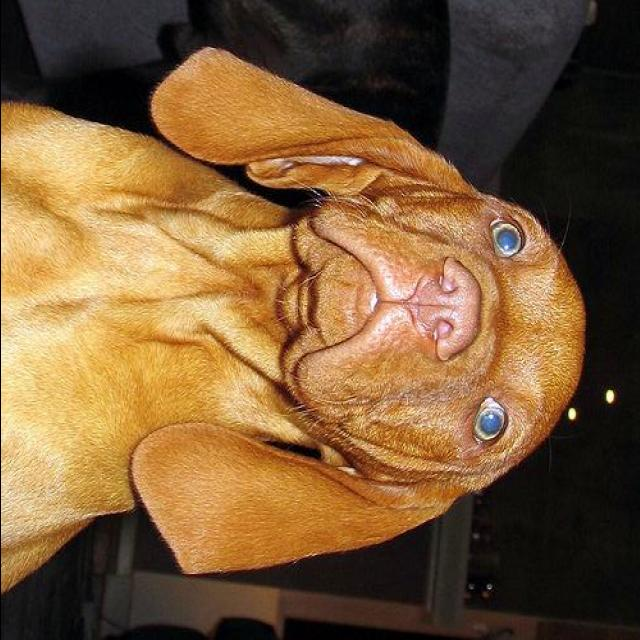vizsla: (2, 41, 592, 594)
